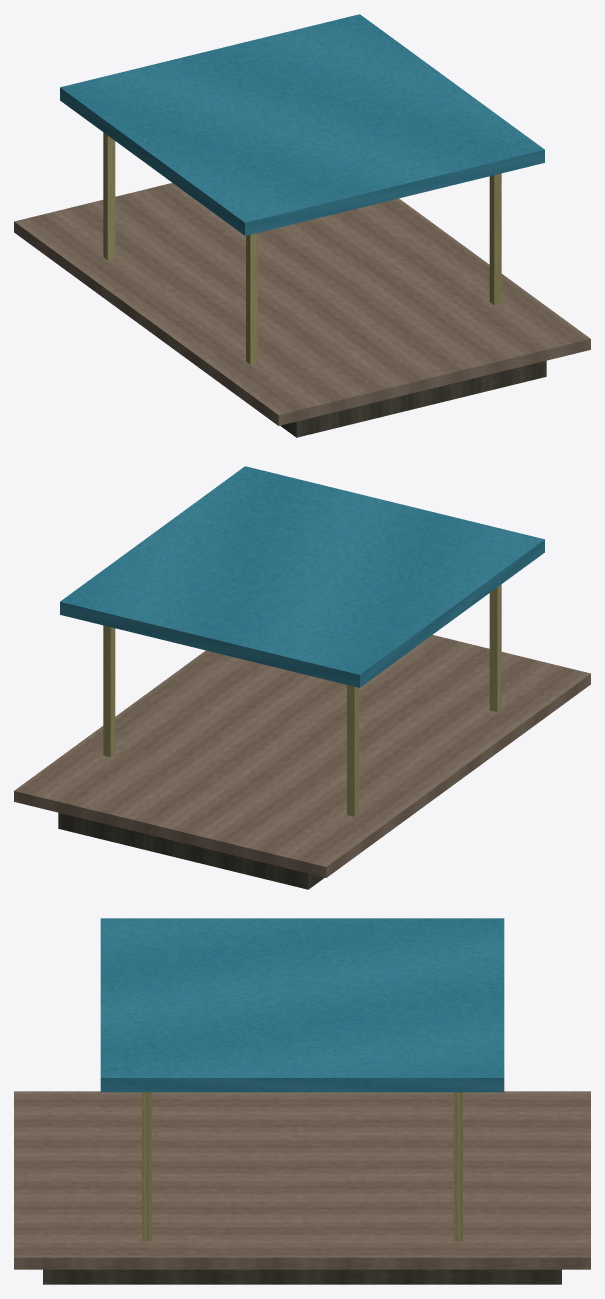
File: bung-raft-1-blue-lod.glb
3 renders of one model, top to bottom at view 1: azimuth 30°, elevation 25°; view 2: azimuth 150°, elevation 25°; view 3: azimuth 270°, elevation 25°, orthographic. The views are drawn at different scales.
Visible parts, largest first — view 1: bung-raft-1-blue-lod; view 2: bung-raft-1-blue-lod; view 3: bung-raft-1-blue-lod.
Boxes of the visible parts, <box> form: bung-raft-1-blue-lod: <box>14,14,590,437</box>; bung-raft-1-blue-lod: <box>14,466,590,889</box>; bung-raft-1-blue-lod: <box>14,918,590,1284</box>.
Size of the model in its own units: 4.5 by 2.78 by 6.6.
Materials: 1 (1 with a texture image).
